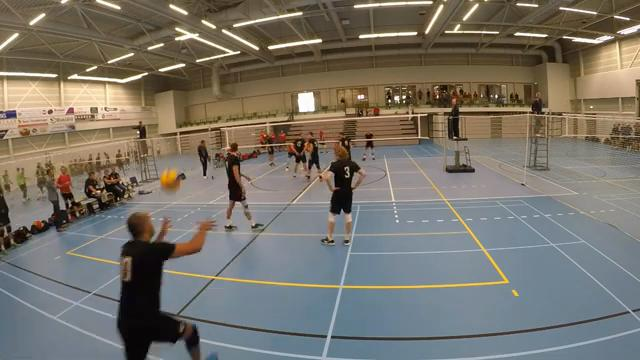Player: (117, 212, 214, 359), (320, 146, 364, 244), (224, 143, 263, 230), (306, 132, 320, 178), (292, 135, 307, 176), (338, 133, 352, 159), (363, 132, 374, 160), (285, 143, 295, 170), (318, 129, 325, 147)
ball: (162, 169, 181, 195)
